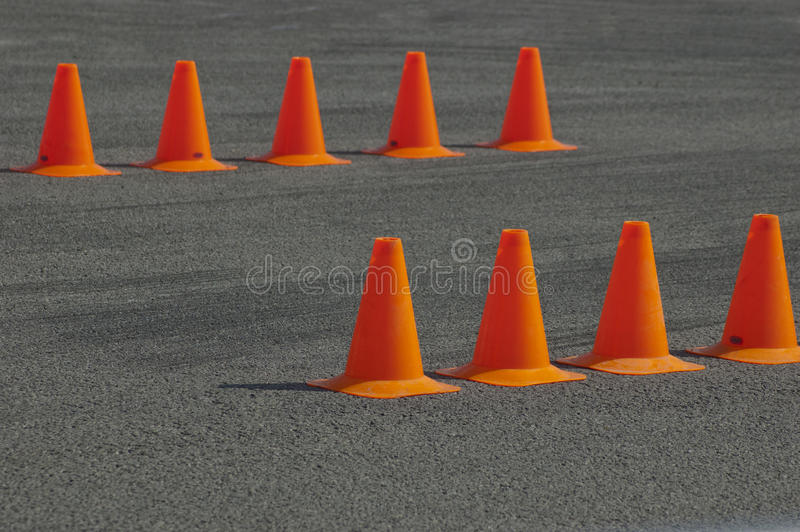cones: (311, 232, 458, 400), (566, 212, 713, 380), (443, 225, 590, 393), (714, 209, 800, 372), (25, 61, 128, 180), (138, 57, 241, 176), (252, 54, 355, 173), (366, 45, 469, 164), (480, 37, 583, 156)
